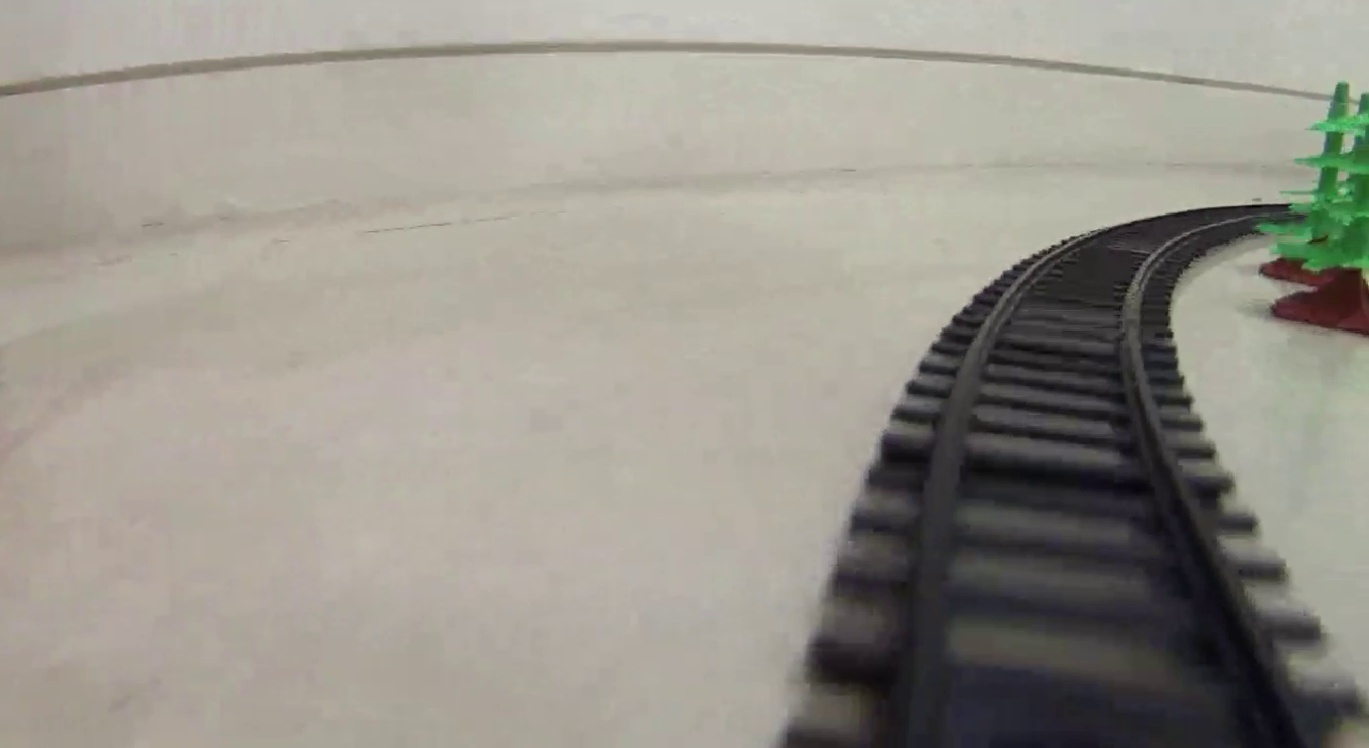tree: (1259, 80, 1369, 309)
